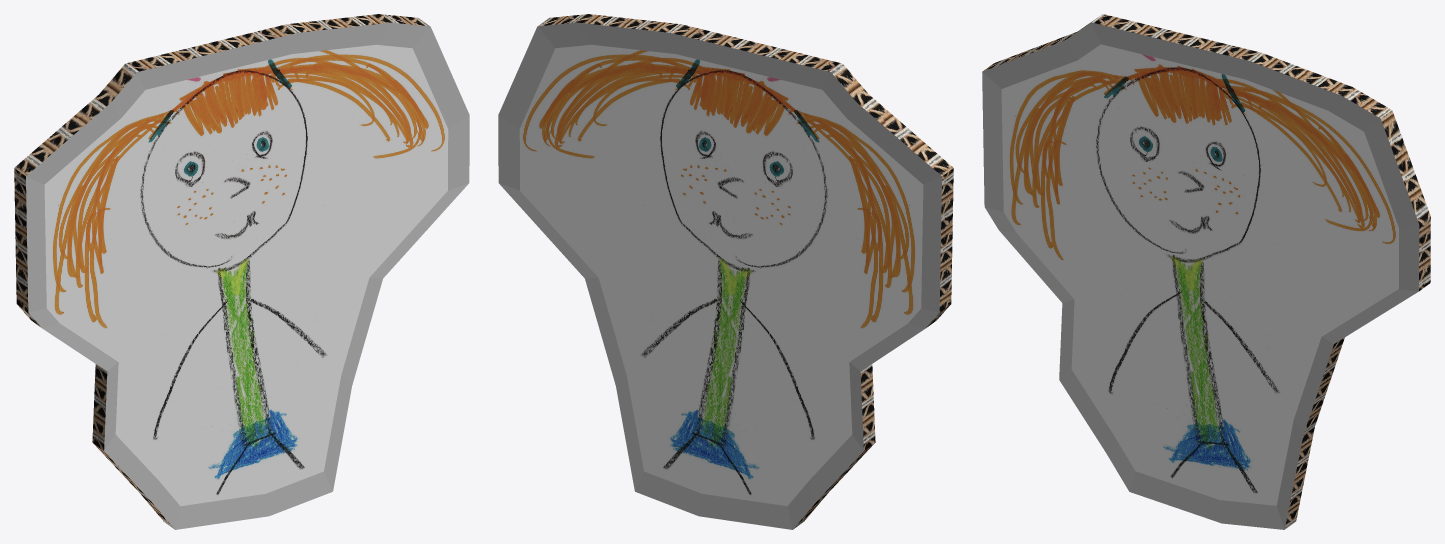
The model's file is Pipsa2.fbx.
3 views of the same model, side by side, from view 1: azimuth 30°, elevation 25°; view 2: azimuth 150°, elevation 25°; view 3: azimuth 330°, elevation 25° (orthographic).
Parts seen in each view (by area): view 1: Pipsa2; view 2: Pipsa2; view 3: Pipsa2.
Part boxes in pixels (x1,y1,x2,y2): Pipsa2: (14,14,469,529); Pipsa2: (498,14,953,529); Pipsa2: (982,14,1430,529).
Bounding box in the file's own units: 210 × 215 × 9.57.
